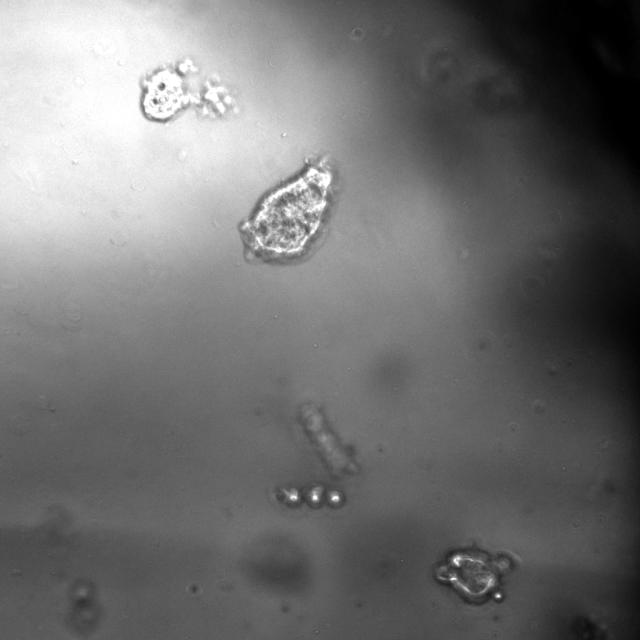organoid: (238, 155, 339, 266), (139, 57, 240, 125), (297, 402, 359, 478), (433, 547, 515, 604), (275, 484, 346, 508)
